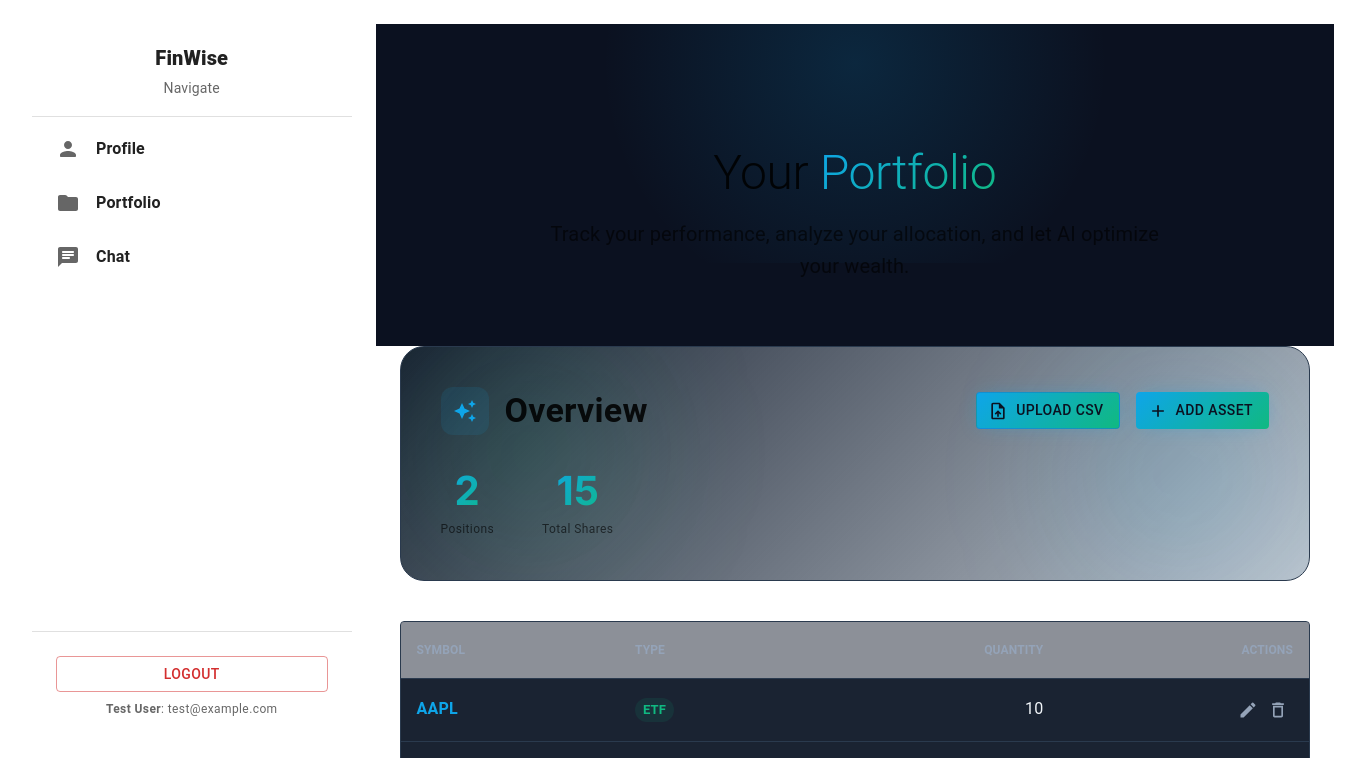
Test case: Portfolio Integration Flow › opens the Add Asset modal, submits a new asset, and shows it in the table
The image size is (1366, 758).
Expected: the text "AAPL" is shown, left=400, top=678, right=619, bottom=741
Note: open the modal
Click the button "Add Asset".
click(1202, 411)  # box left=1136, top=392, right=1269, bottom=429
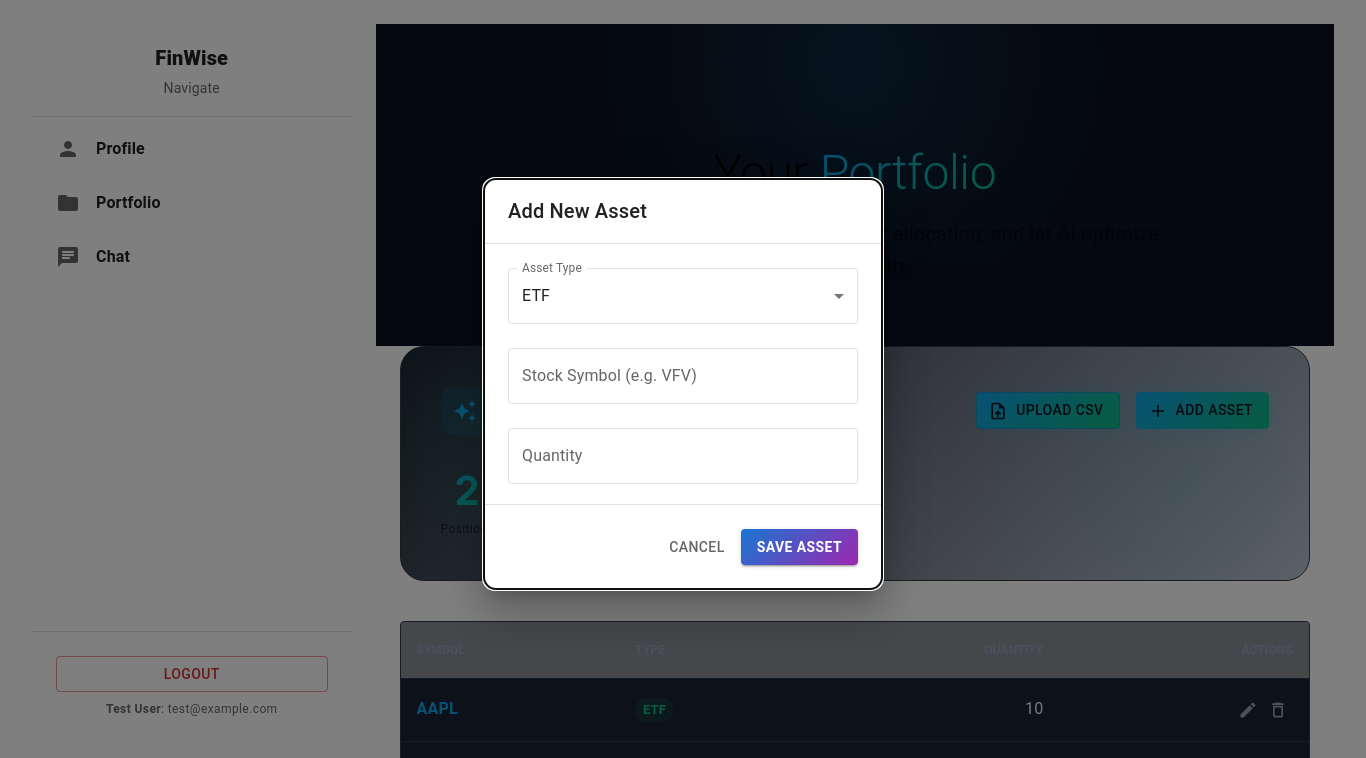
Note: fill out the form — inputs need proper aria labels for these selectors to work
Type "MSFT" into the field labelled "Stock Symbol (e.g. VFV)".
click(683, 376); type("MSFT")  # box left=508, top=348, right=858, bottom=404
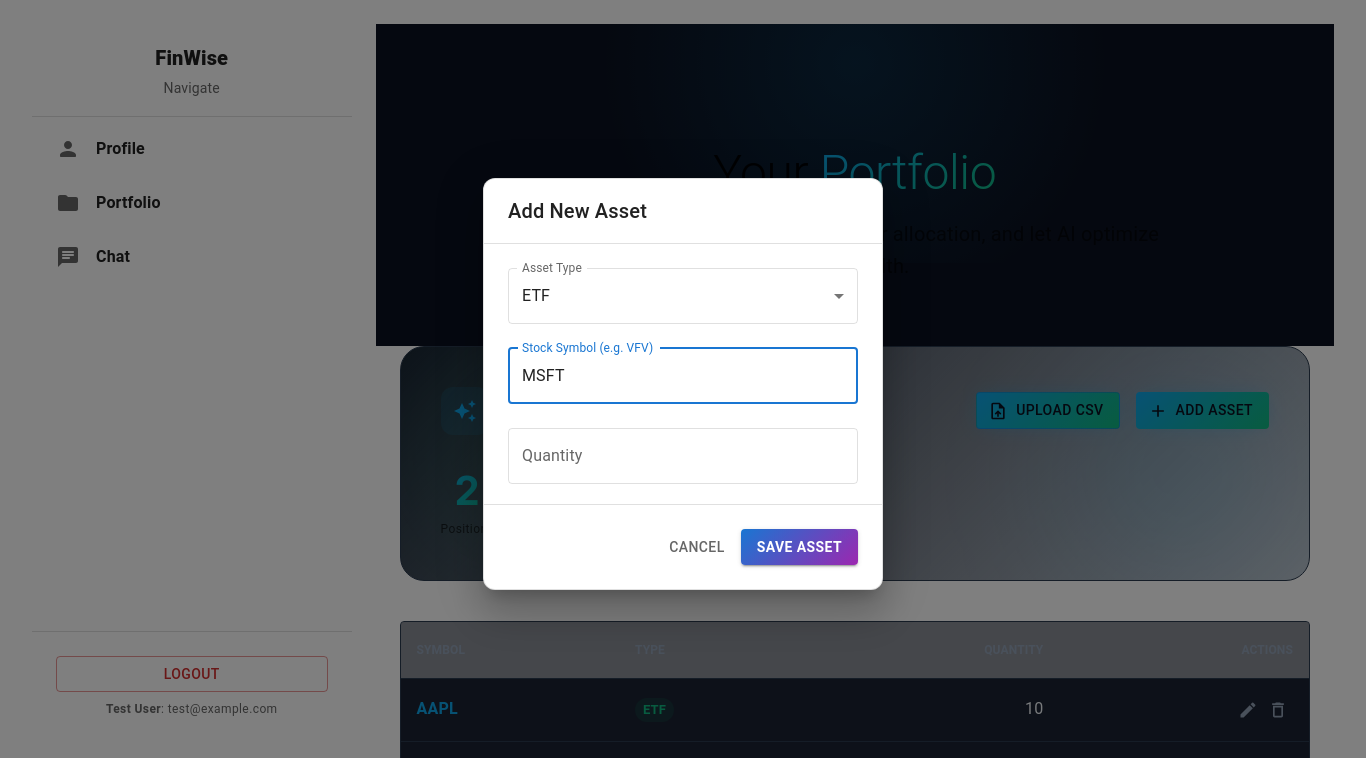
Type "20" into the number field labelled "Quantity".
click(683, 456); type("20")  # box left=508, top=428, right=858, bottom=484
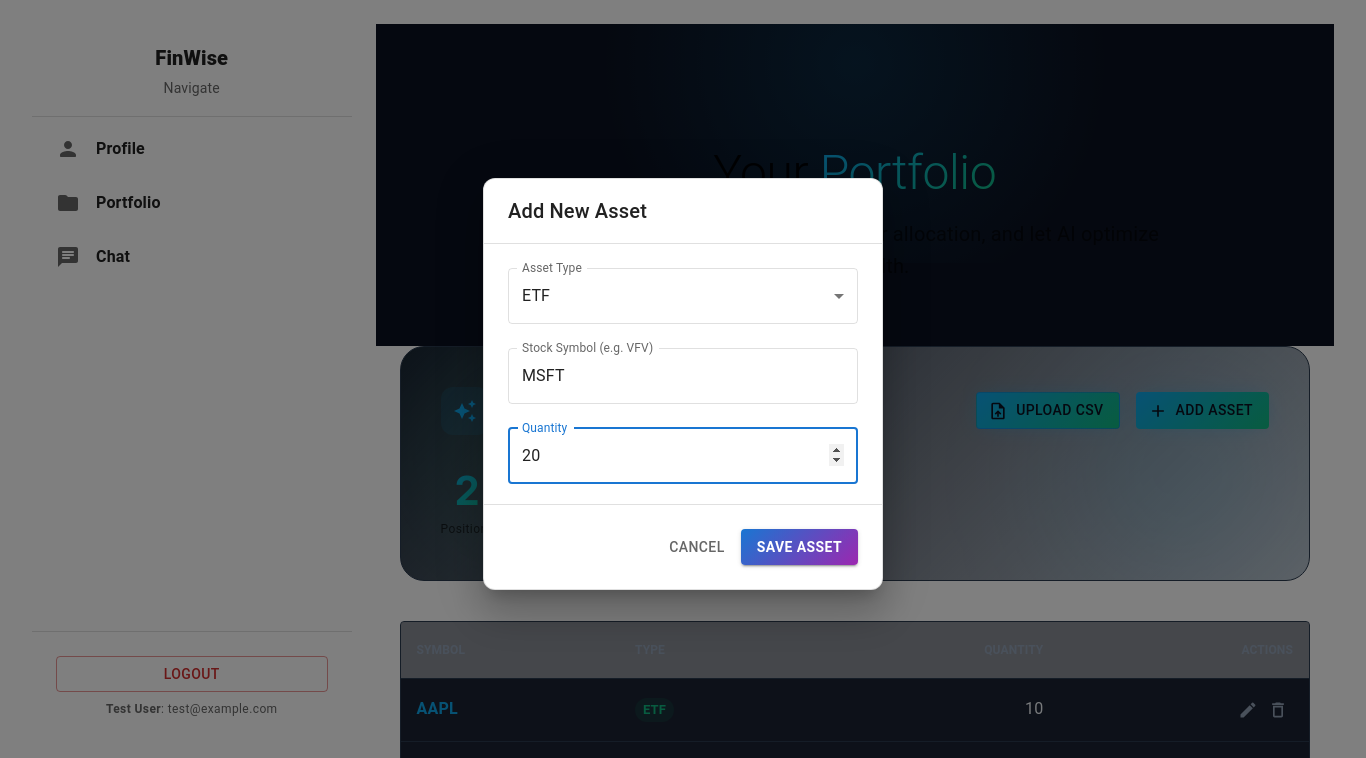
Click the button "Save Asset".
click(799, 547)  # box left=741, top=529, right=858, bottom=565
(page scrolled)
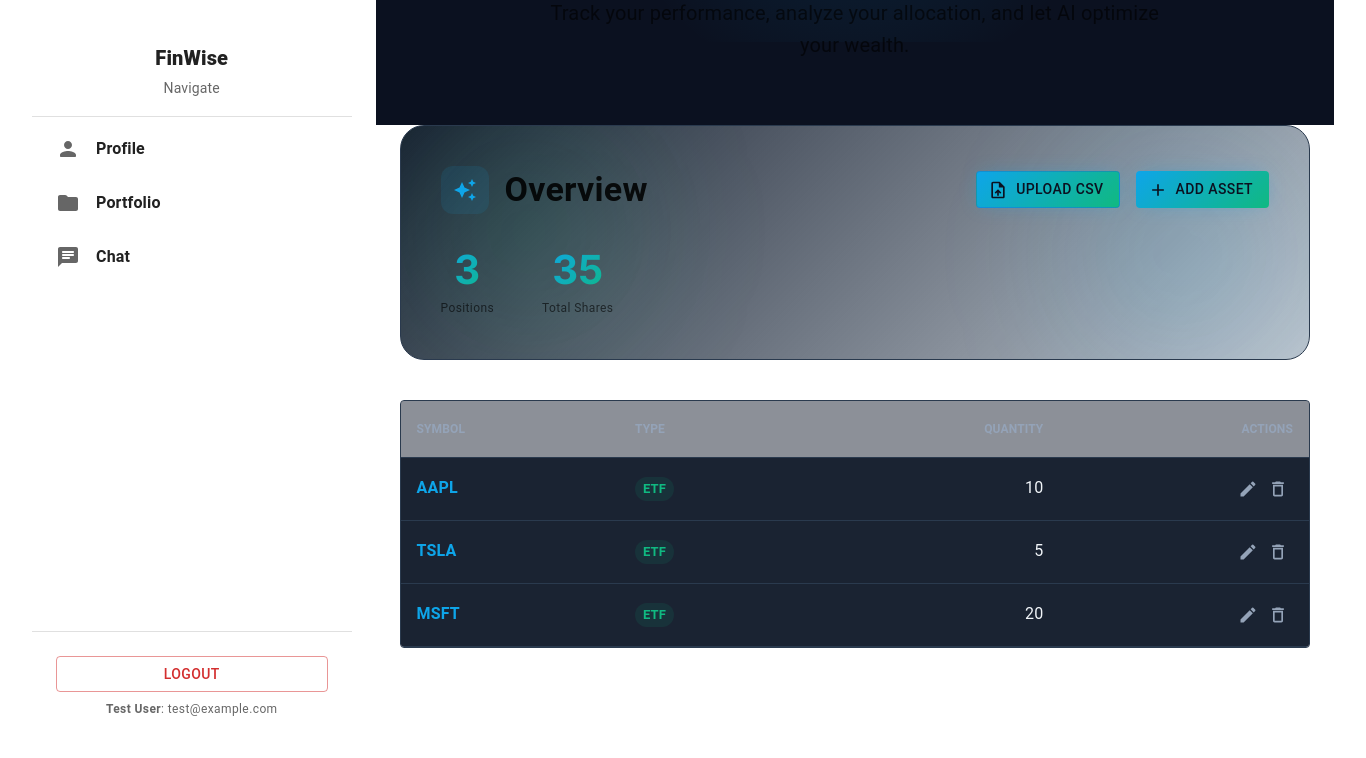
Expected: the text "MSFT" is shown, left=400, top=583, right=619, bottom=646
